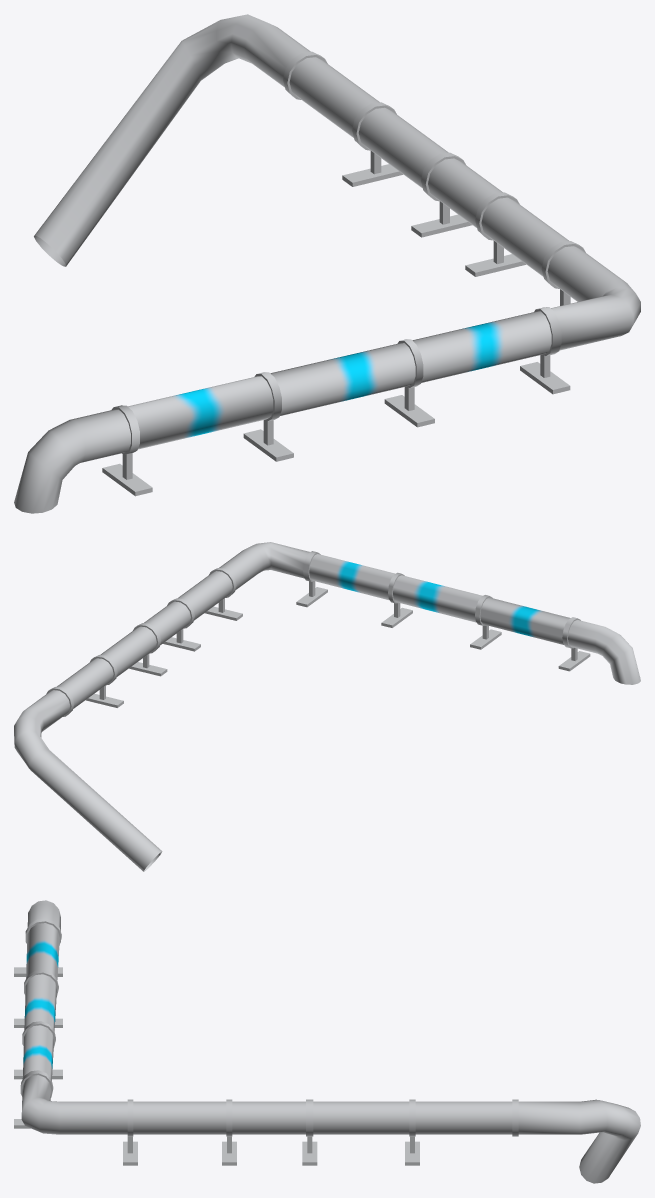
Rendered from tuyau_angle.fbx.
3 views of the same model, one above another, from view 1: azimuth 30°, elevation 25°; view 2: azimuth 150°, elevation 25°; view 3: azimuth 270°, elevation 25° (orthographic). The views are drawn at different scales.
Visible parts, largest first — view 1: tuyau_angle; view 2: tuyau_angle; view 3: tuyau_angle.
Boxes of the visible parts, x1,y1,x2,y2 form: tuyau_angle: [14, 14, 640, 513]; tuyau_angle: [14, 542, 640, 871]; tuyau_angle: [14, 900, 640, 1183].
Size of the model in its own units: 569 by 175 by 654.
1 material, 1 textured.
